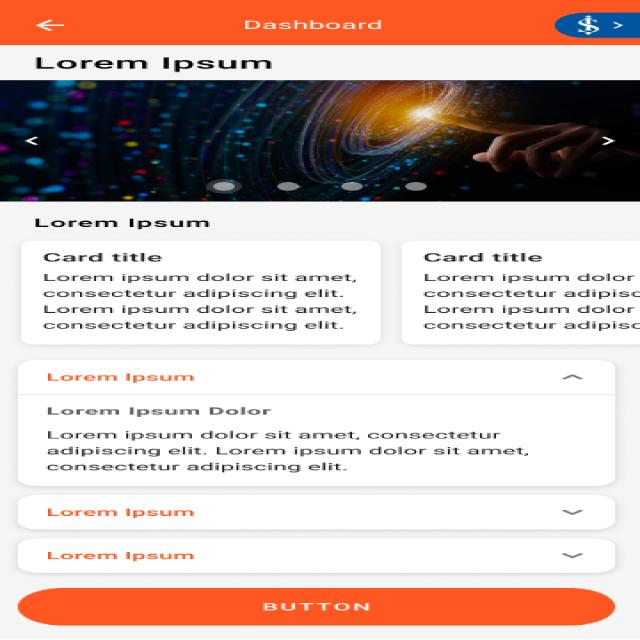QLabel: (42, 428, 534, 476), (36, 269, 365, 336), (421, 271, 640, 332), (28, 54, 276, 75), (42, 403, 279, 417), (29, 216, 214, 231), (39, 547, 201, 563), (34, 248, 167, 266), (235, 18, 393, 32), (39, 506, 201, 519), (42, 370, 203, 383), (422, 251, 546, 264), (258, 600, 376, 612)
VAppBar: (0, 0, 640, 44)
VBtn: (18, 588, 616, 625)
VCard: (21, 240, 382, 346), (401, 240, 640, 345)
VDivider: (17, 392, 616, 397)
VExpansionPanels: (15, 358, 616, 487), (15, 494, 617, 532), (15, 538, 617, 573)
VIcon: (31, 15, 71, 35)
VImg: (549, 11, 640, 40)
VStepper: (0, 79, 640, 202)
